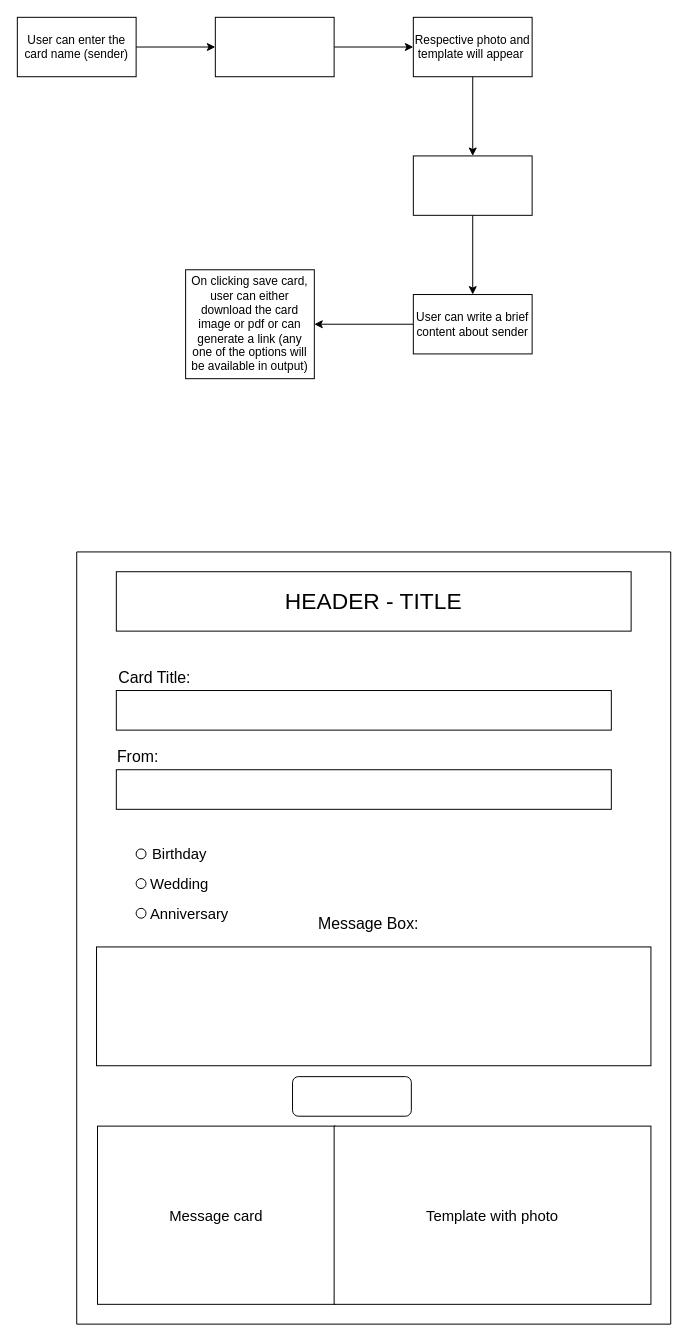
The diagram is 688 pixels wide and 1341 high, and some of its shapes have lost their labels. Each missing label, with the centre of its shape:
Save Card: the point at 351,1096
User can select the occasion (birthday, wedding, anniversary): the point at 274,46
User can type the content and invites in the input box: the point at 472,185
